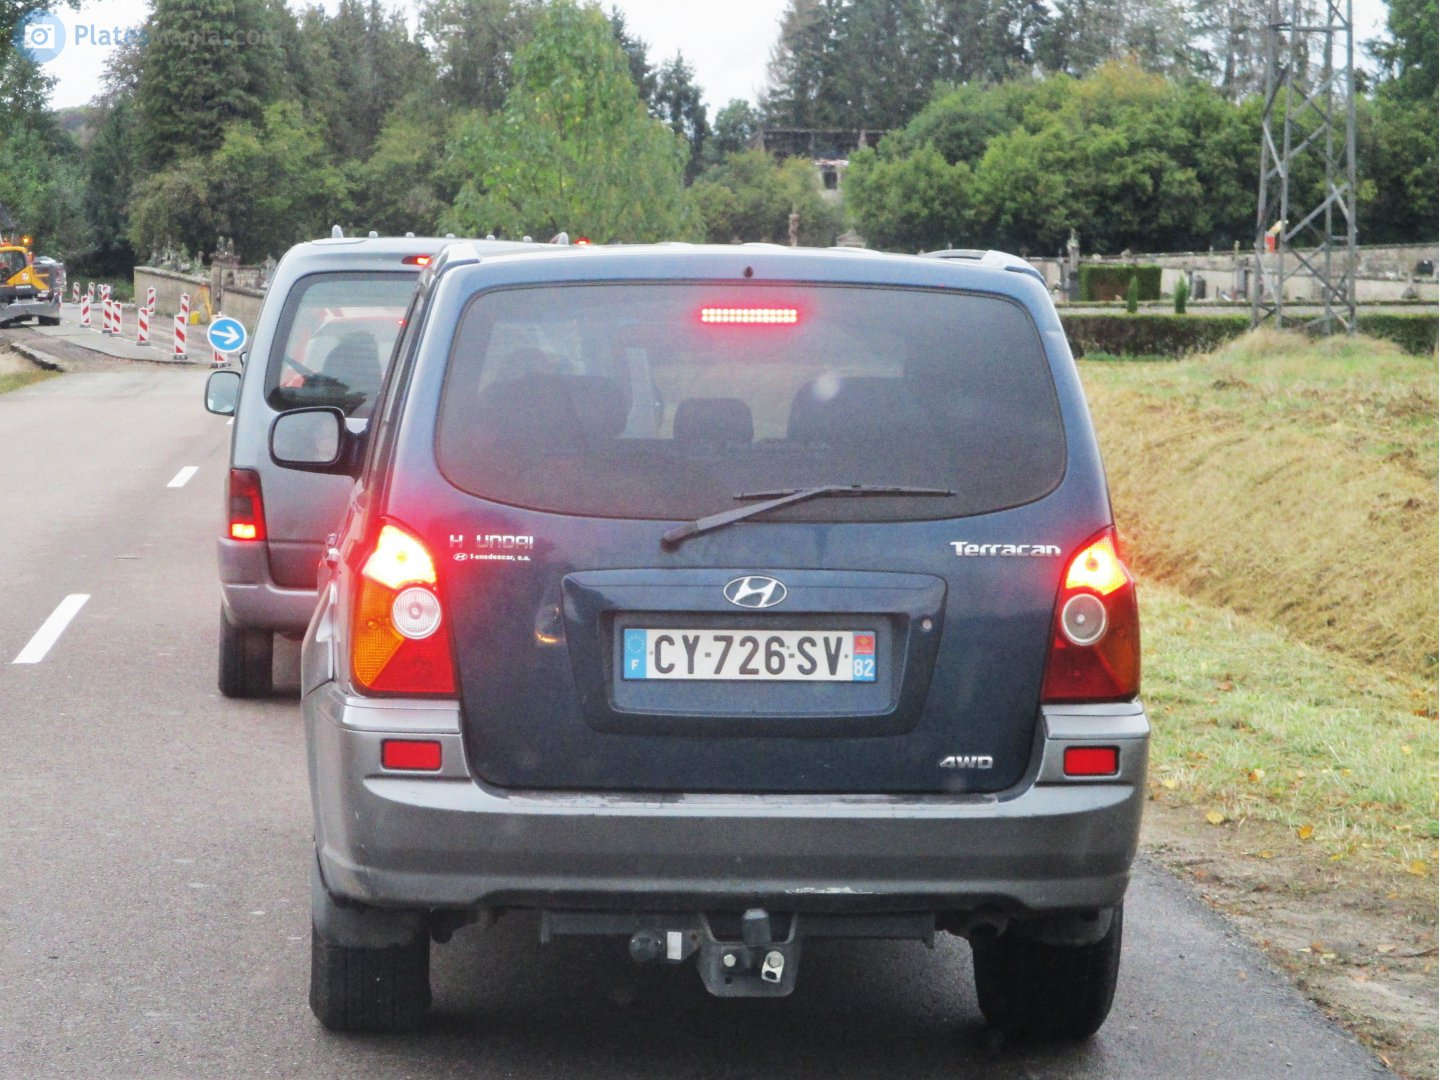licence plate: (620, 622, 880, 686)
